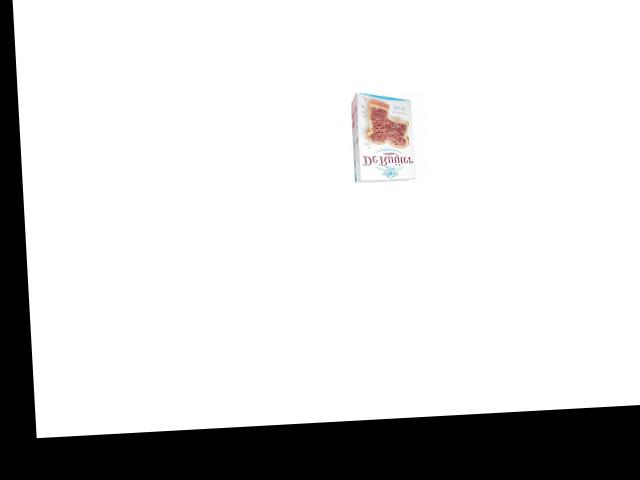chocolate: (342, 91, 424, 188)
